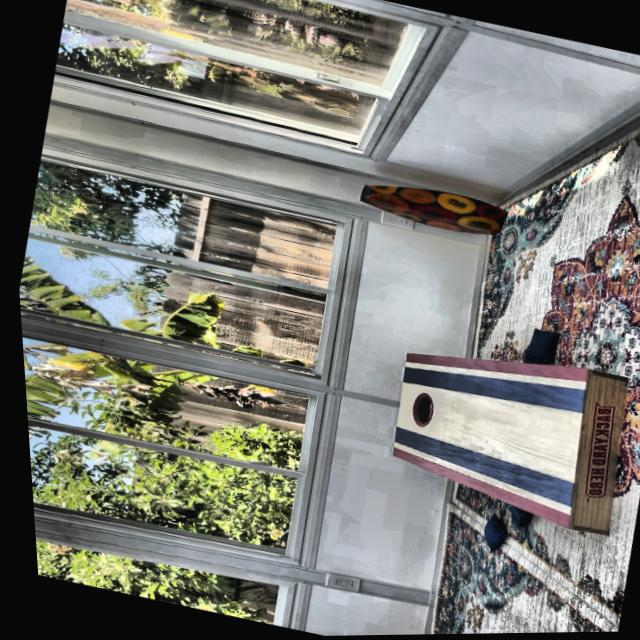blue-bean-bag: (467, 513, 501, 557), (517, 328, 555, 364), (493, 503, 528, 533), (516, 346, 544, 369)
board: (374, 344, 583, 507)
hole: (399, 390, 432, 431)
